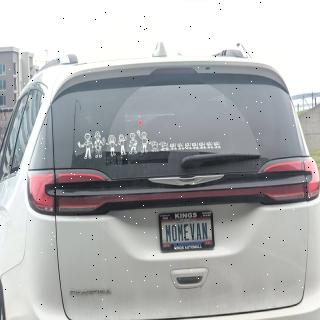license: (159, 212, 216, 253)
